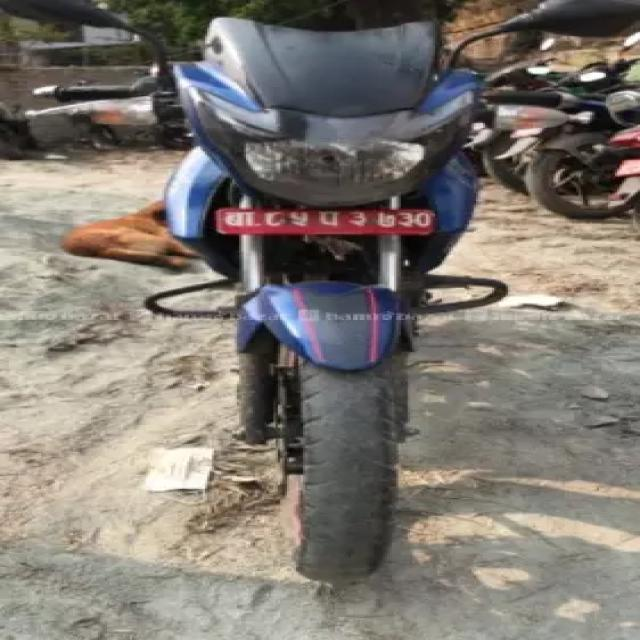License-plate: (215, 205, 439, 234)
